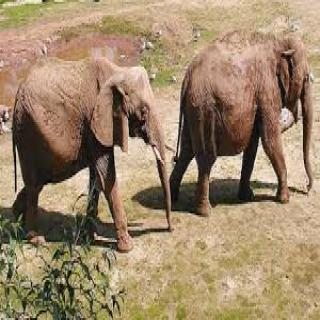Elephant: (10, 55, 177, 255), (170, 21, 316, 219)
